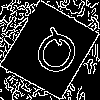Q: (25, 24, 86, 87)
